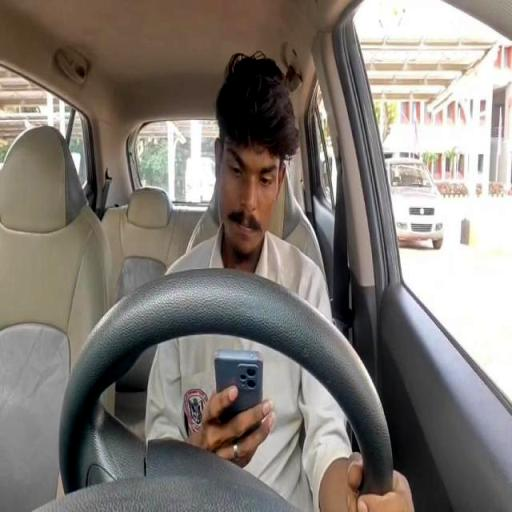Texting_on_phone: (162, 54, 365, 483)
